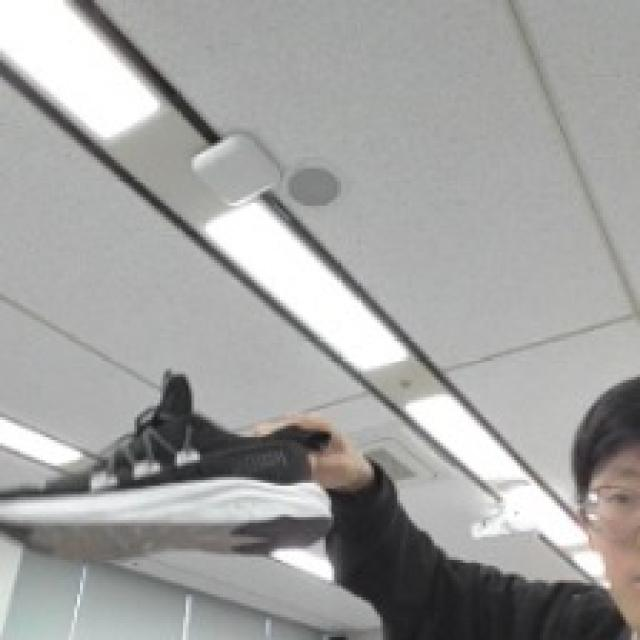shoes: (0, 339, 337, 554)
